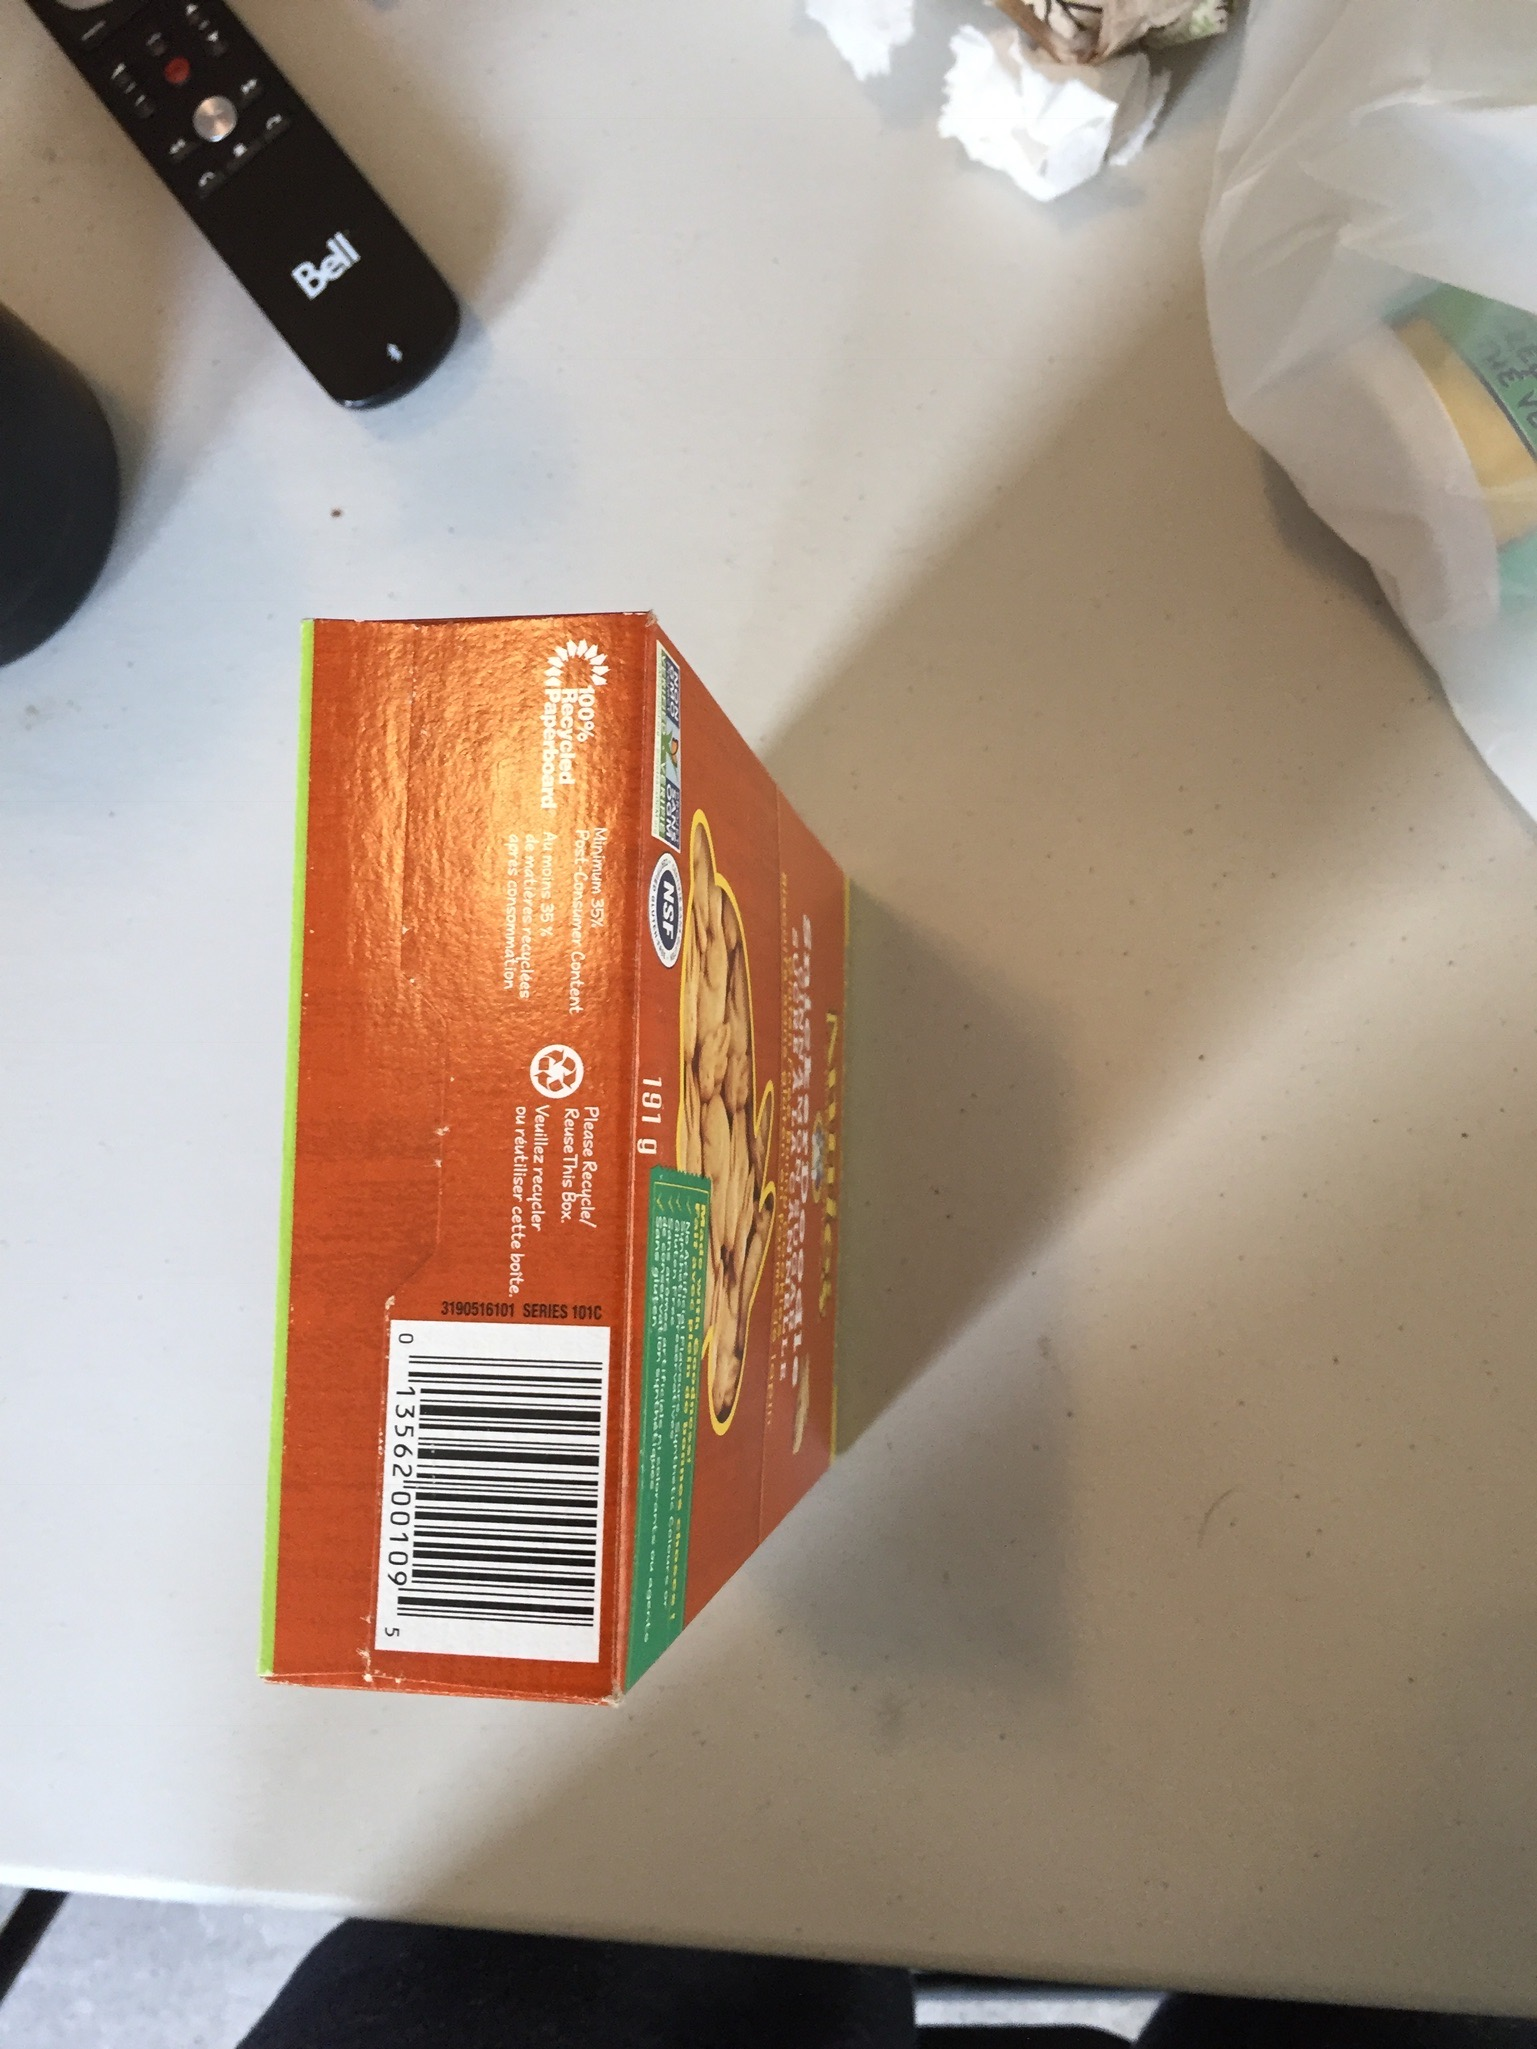annies_snickerdoodles_cinnamon_sugar: (312, 630, 660, 1657)
